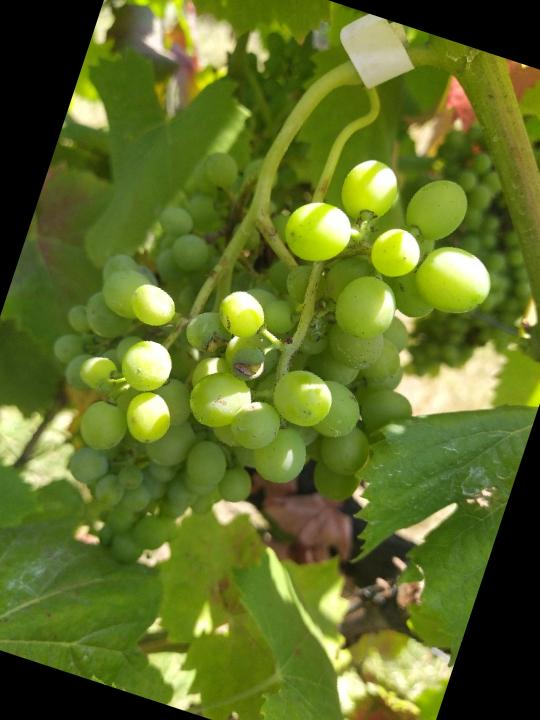grape: (0, 78, 520, 647)
